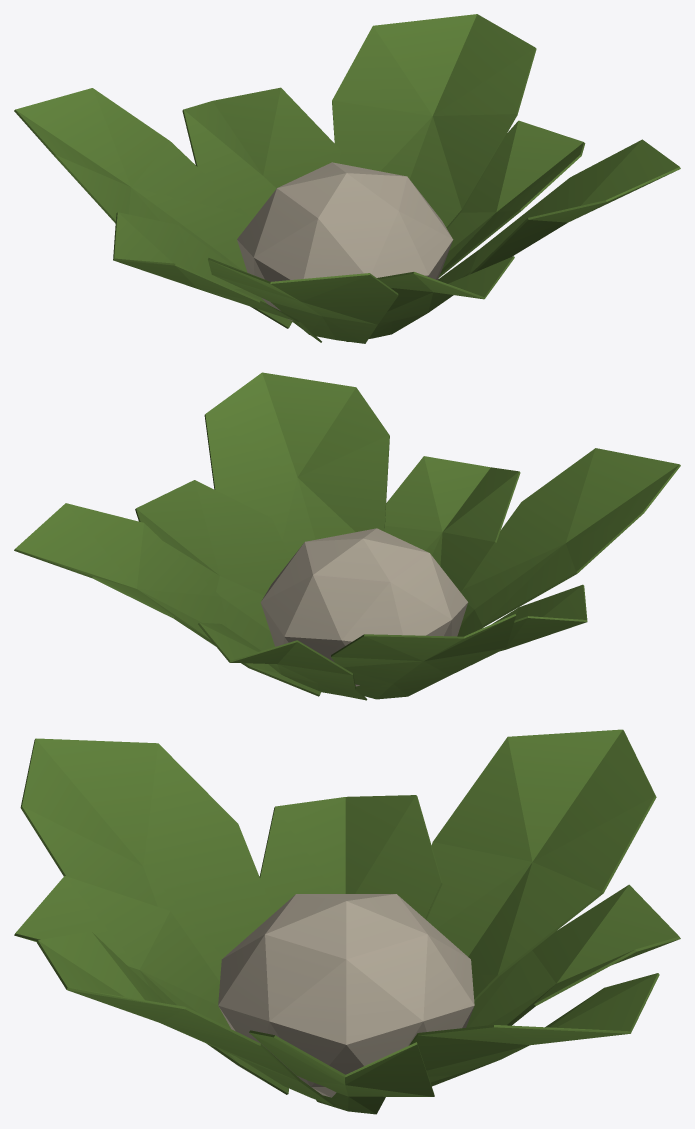
Rendered from Crop_Cauliflower_STAGE_2_01.obj.
3 renders of one model, top to bottom at view 1: azimuth 30°, elevation 25°; view 2: azimuth 150°, elevation 25°; view 3: azimuth 270°, elevation 25°, orthographic. The views are drawn at different scales.
Visible parts, largest first — view 1: Crop_Cauliflower_STAGE_2_01; view 2: Crop_Cauliflower_STAGE_2_01; view 3: Crop_Cauliflower_STAGE_2_01.
Part boxes in pixels (bbox=[...]): Crop_Cauliflower_STAGE_2_01: bbox=[14, 14, 680, 343]; Crop_Cauliflower_STAGE_2_01: bbox=[14, 372, 680, 700]; Crop_Cauliflower_STAGE_2_01: bbox=[14, 729, 680, 1114].
Size of the model in its own units: 0.3627 by 0.1375 by 0.3541.
Materials: 1 (1 with a texture image).
